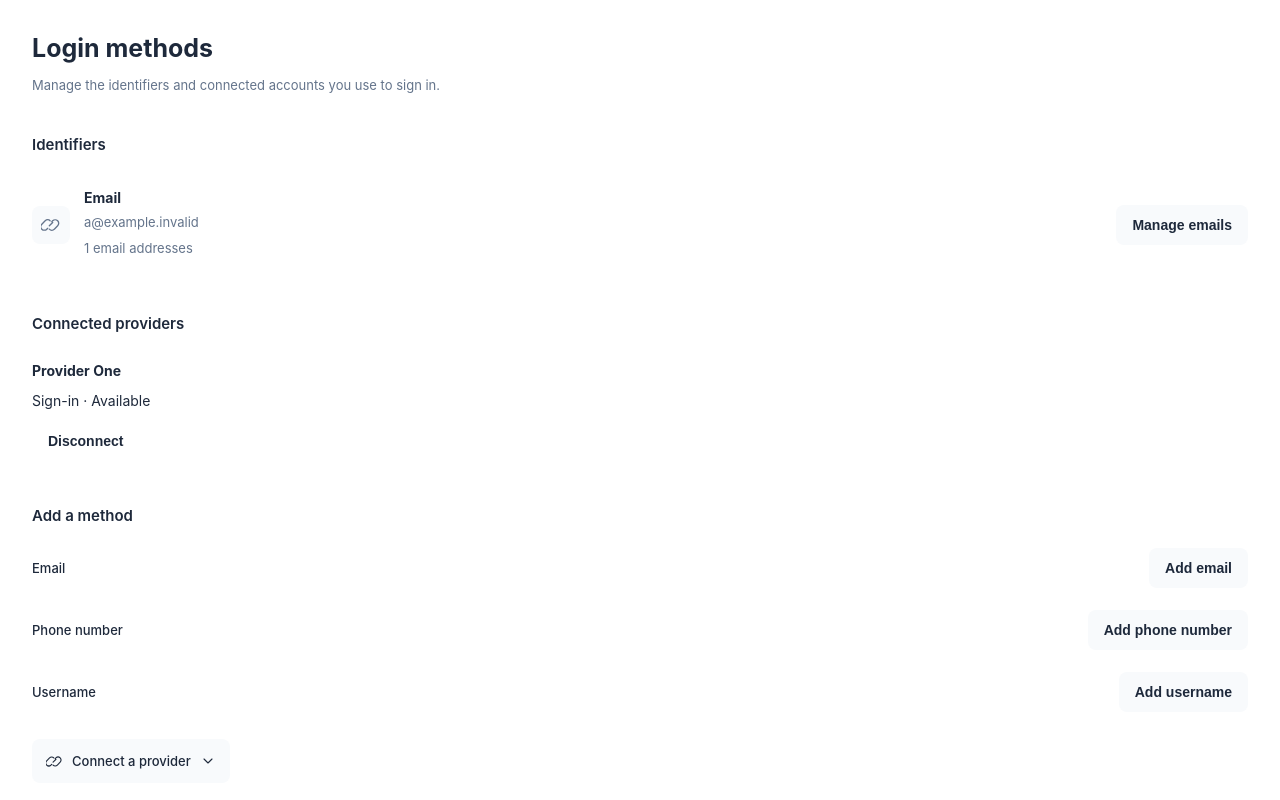
Test: F-003 action discovery and operation composition › renders Provider disclosure as a real secondary button with icons and explicit expanded state
Expected: the button "Add email" is shown, [1149,548,1248,588]
What coordinates should you click on to do the following:
click the button "Connect a provider"
I would click on:
 (131, 761)
Its box is [32,739,230,783].
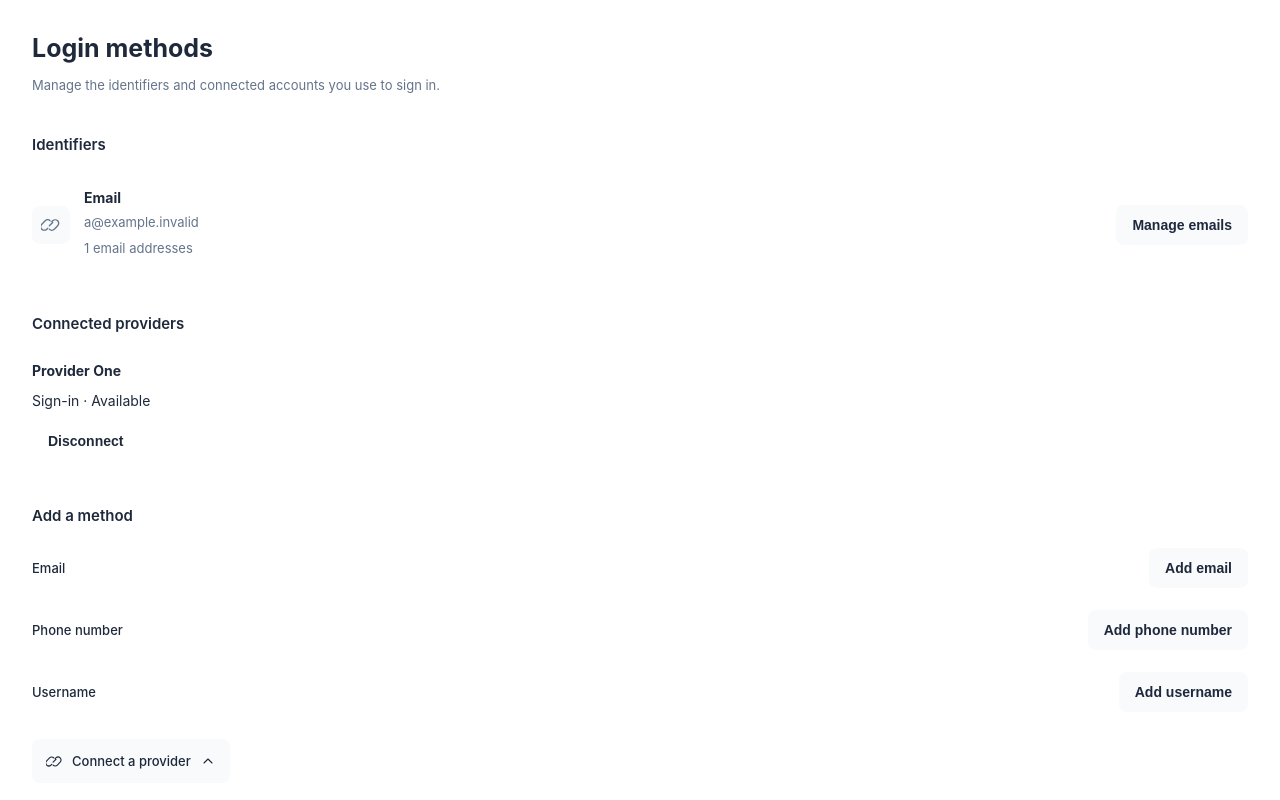
Now the button "Connect a provider" is expanded
What coordinates should you click on to do the following:
click the button "Connect a provider"
I would click on:
 (131, 761)
Its box is [32,739,230,783].
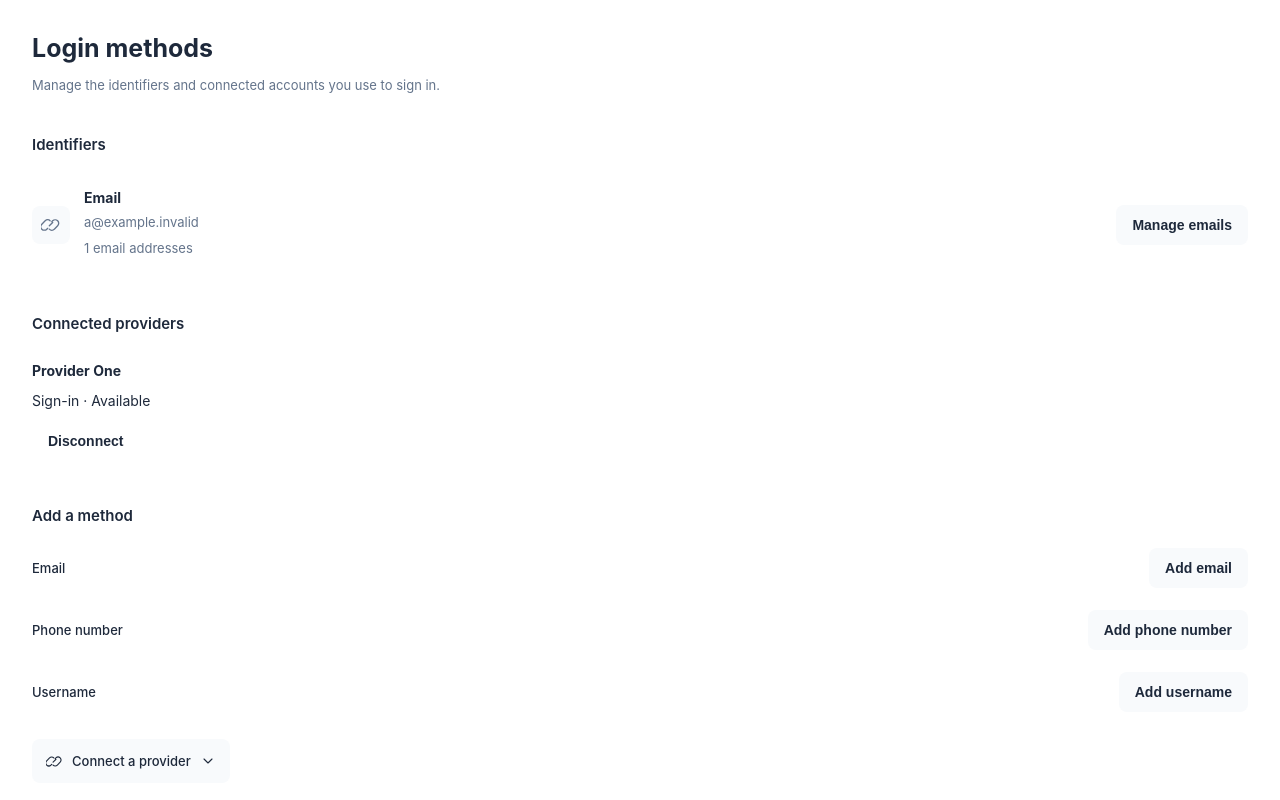
Now the button "Connect a provider" is collapsed, box [32,739,230,783]
